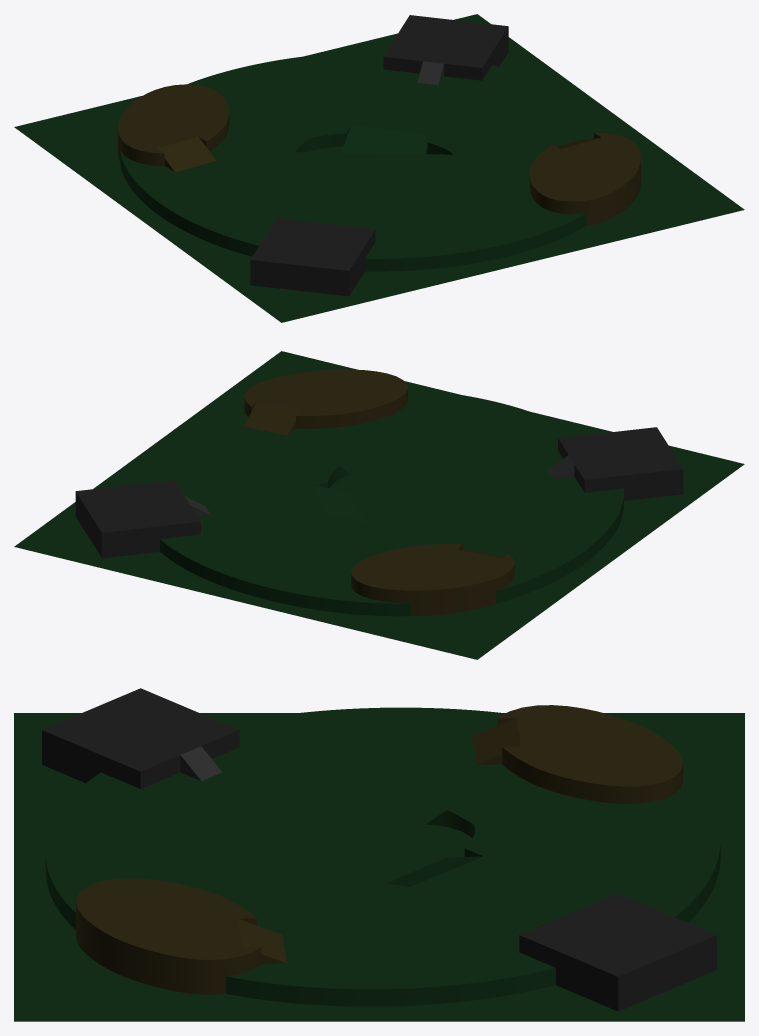
The model's file is TerrainMap2.fbx.
The picture shows the model from 3 angles, top to bottom: view 1: azimuth 30°, elevation 25°; view 2: azimuth 150°, elevation 25°; view 3: azimuth 270°, elevation 25°; orthographic projection. The views are drawn at different scales.
Visible parts, largest first — view 1: Map2; view 2: Map2; view 3: Map2.
Boxes of the visible parts, box(x1,y1,x2,y2) form: Map2: box(14, 14, 744, 322); Map2: box(14, 351, 744, 659); Map2: box(14, 688, 744, 1021).
Size of the model in its own units: 45.71 by 3.41 by 45.71.
